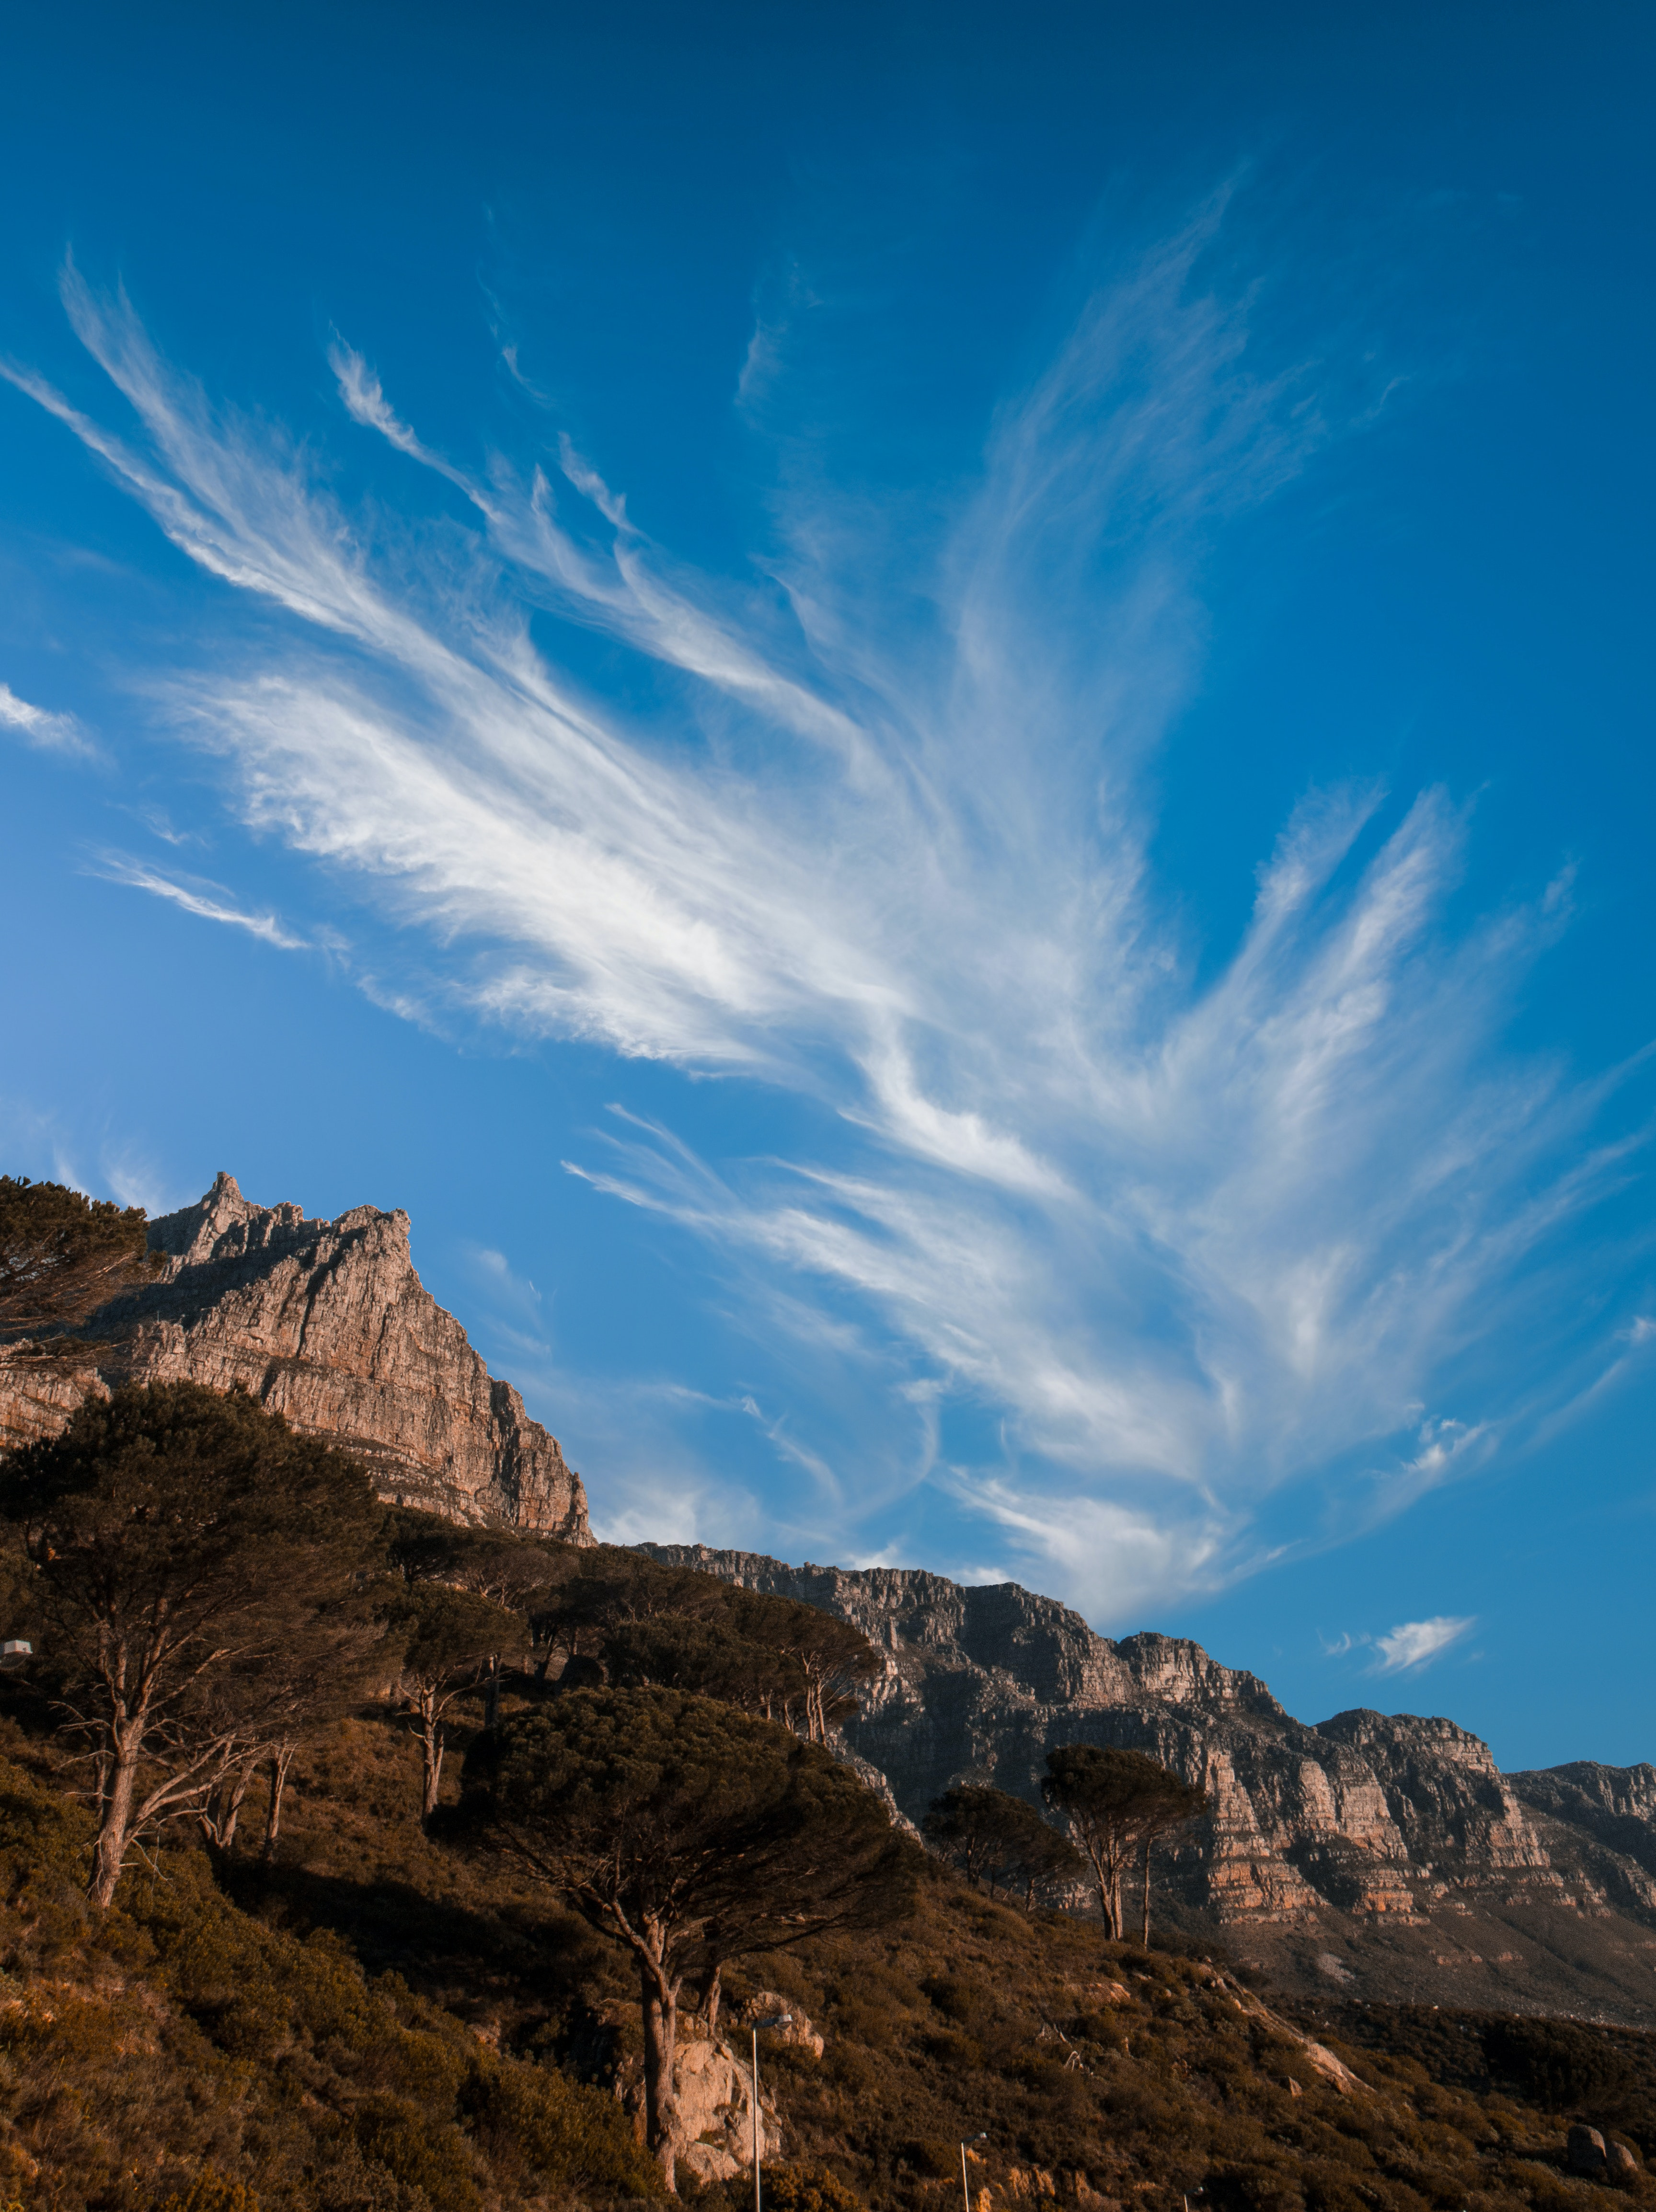Cirrus: (24, 217, 1633, 1607)
